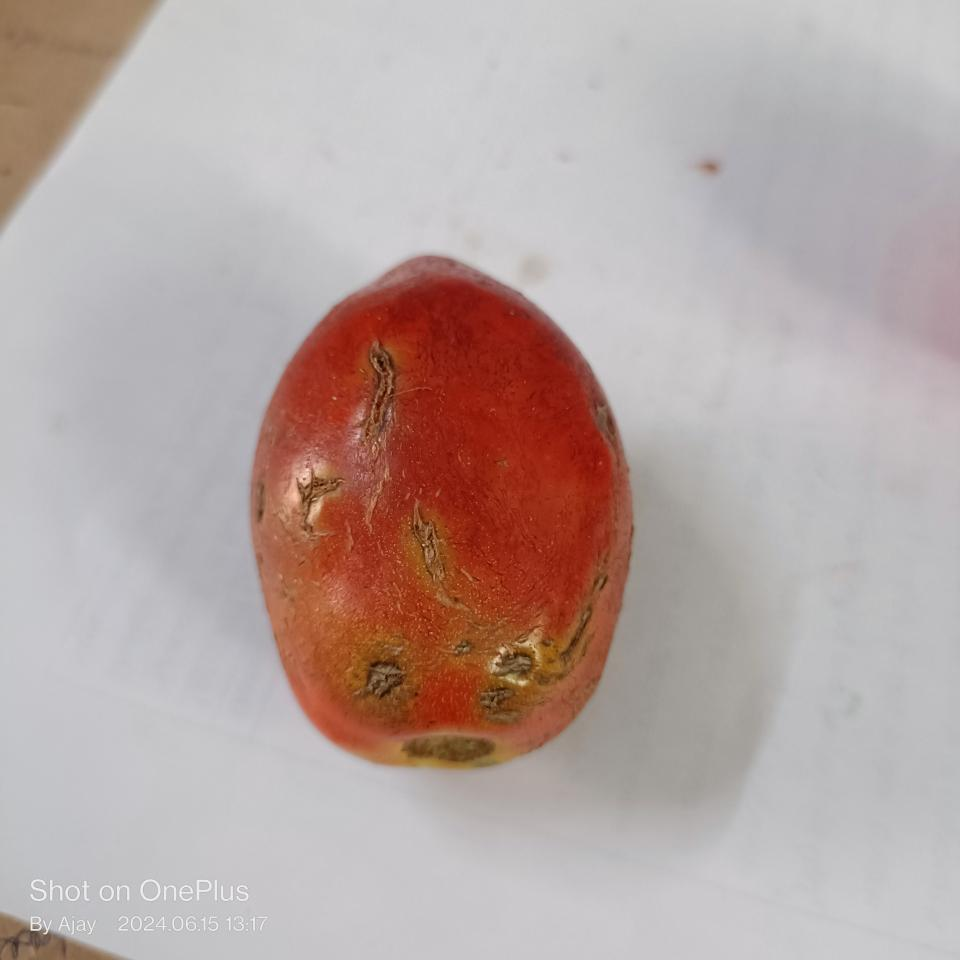Bacterial_Spot: (484, 636, 538, 722), (563, 567, 609, 662), (408, 501, 447, 585), (366, 335, 395, 427), (296, 468, 338, 530), (365, 660, 405, 695), (451, 638, 475, 658)
